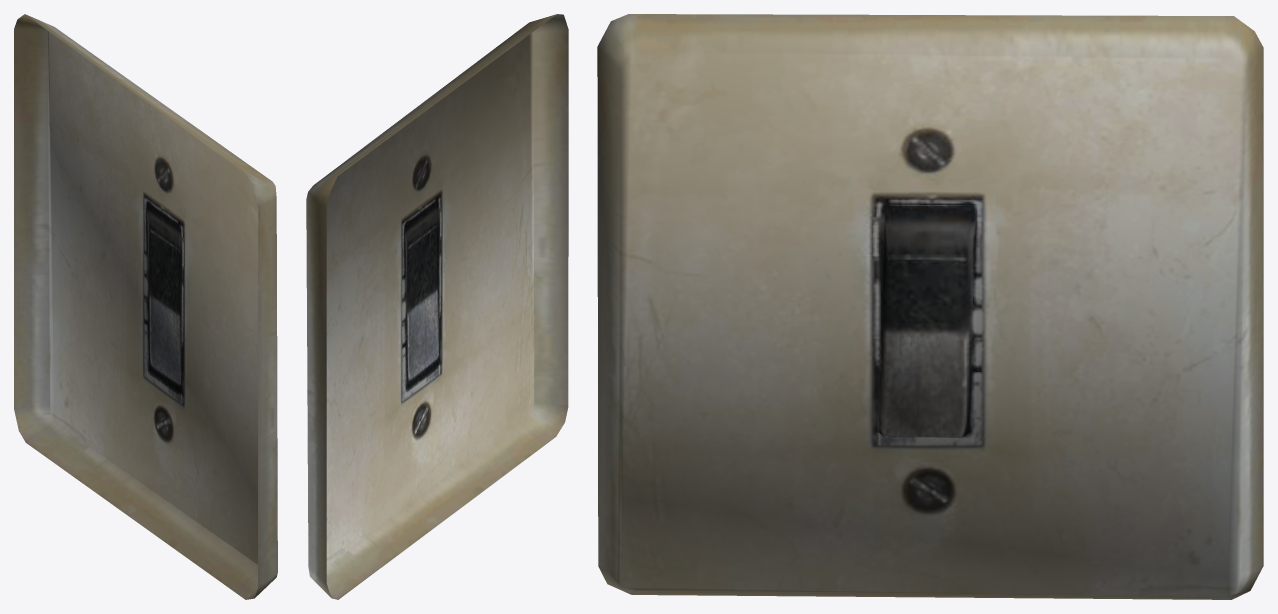
Rendered from Electrical_Switch_06.fbx.
3 renders of one model, left to right at view 1: azimuth 30°, elevation 25°; view 2: azimuth 150°, elevation 25°; view 3: azimuth 270°, elevation 25°, orthographic. The views are drawn at different scales.
Parts seen in each view (by area): view 1: Electrical_Switch_06; view 2: Electrical_Switch_06; view 3: Electrical_Switch_06.
Part boxes in pixels (<box>): Electrical_Switch_06: <box>14,14,277,599</box>; Electrical_Switch_06: <box>306,14,568,599</box>; Electrical_Switch_06: <box>597,14,1263,599</box>.
Size of the model in its own units: 1.63 by 12.68 by 12.31.
Materials: 1 (1 with a texture image).
